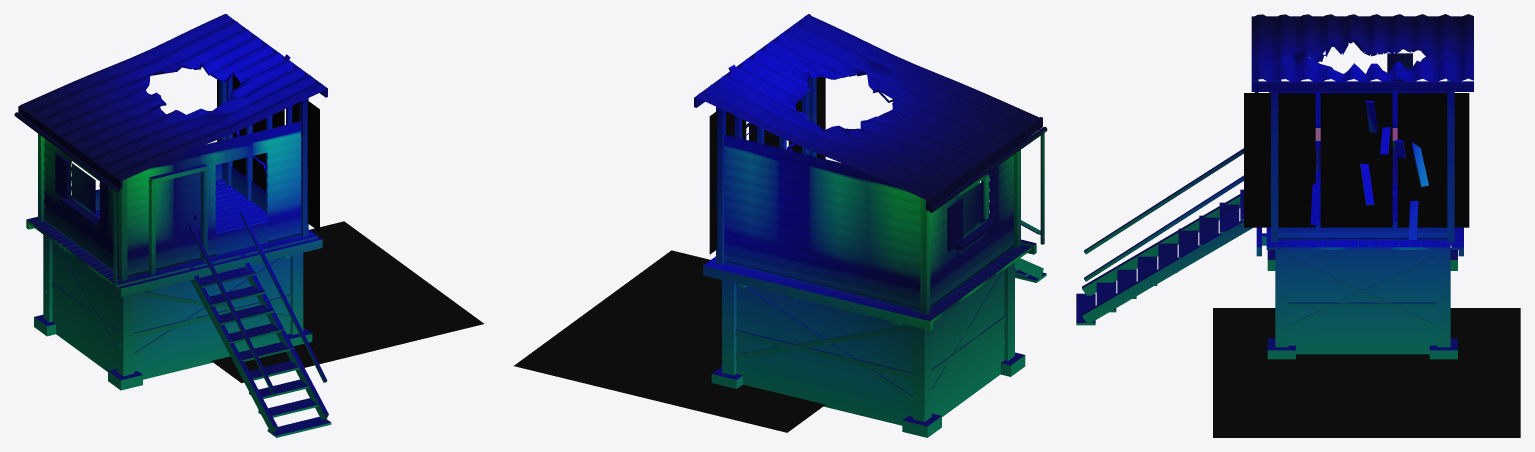
File: civstoragec_damaged.glb
3 views of the same model, side by side, from view 1: azimuth 30°, elevation 25°; view 2: azimuth 150°, elevation 25°; view 3: azimuth 270°, elevation 25° (orthographic). The views are drawn at different scales.
Visible parts, largest first — view 1: lod0; view 2: lod0; view 3: lod0.
Part boxes in pixels (x1,y1,x2,y2): lod0: (14, 14, 483, 437); lod0: (514, 14, 1047, 437); lod0: (1076, 14, 1520, 437).
Size of what is drawn, in the model's own units: 8.69 by 6.17 by 8.67.
